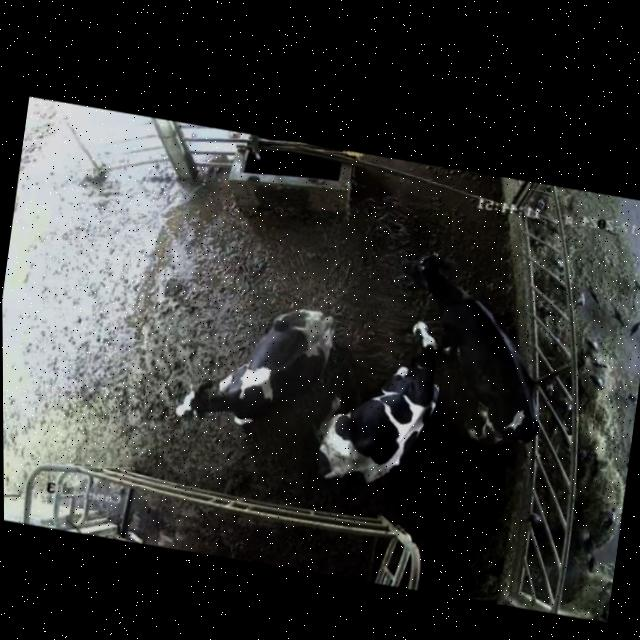lay: (151, 269, 341, 471), (306, 304, 457, 516)
stand: (391, 243, 567, 465)
